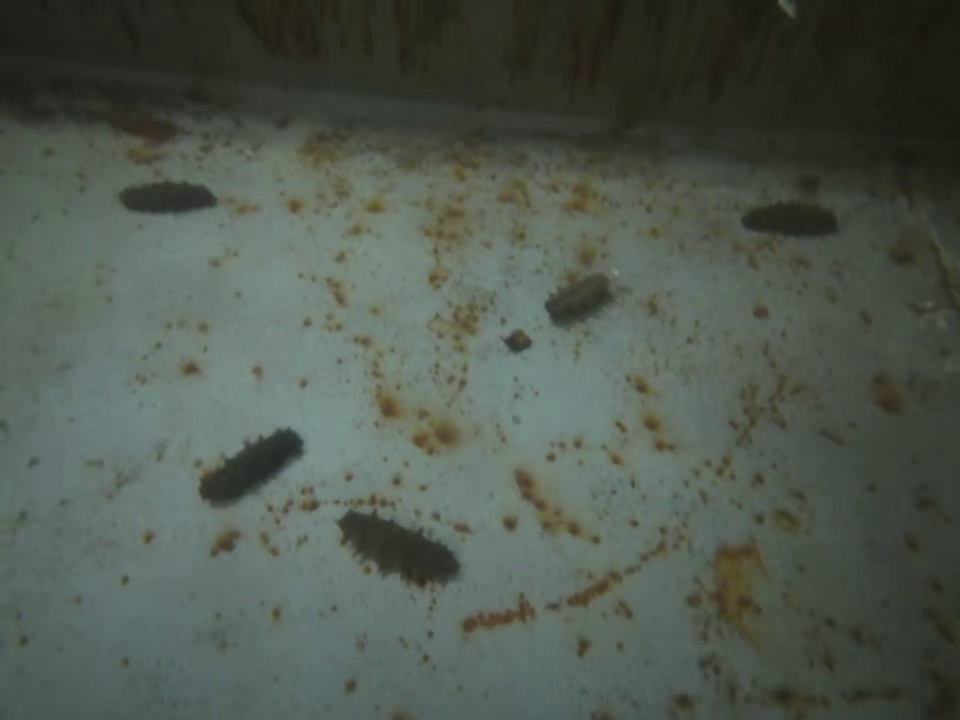seacucumber: (334, 506, 463, 588), (196, 424, 307, 506), (737, 198, 845, 240), (115, 180, 223, 214), (544, 272, 614, 322)
